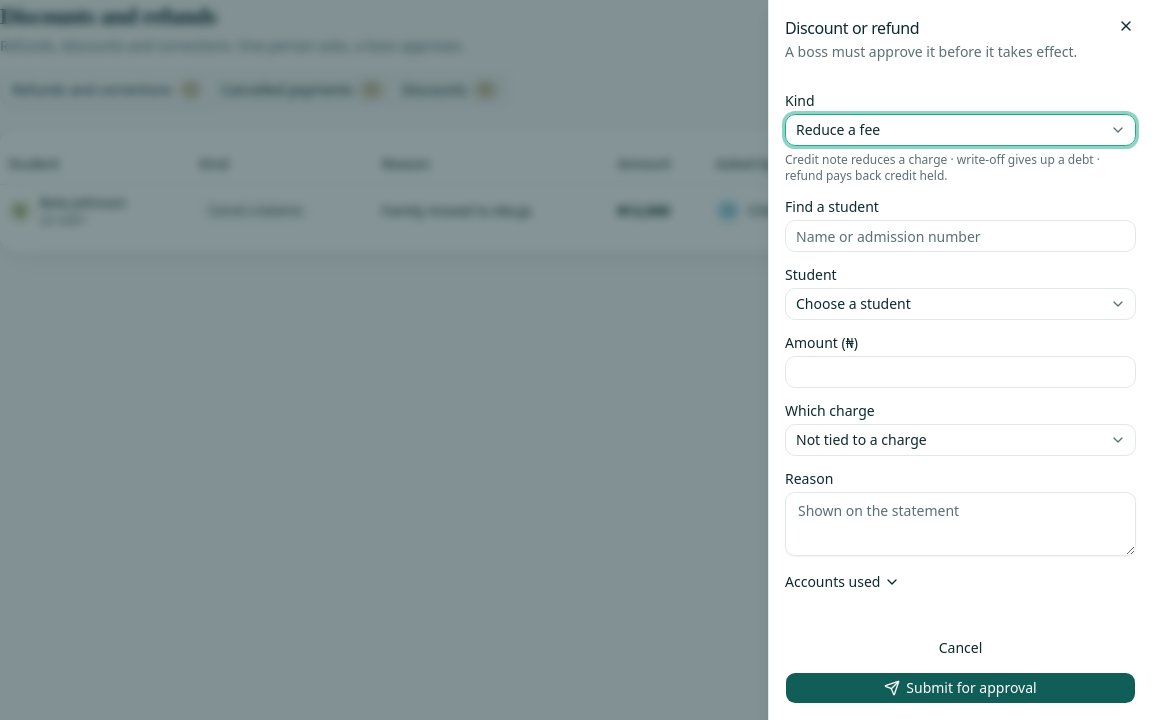
Test: the New request sheet › asks for a student and an amount, then a reason, before sending anything
The width and height of the screenshot is (1152, 720).
Expected: the dropdown labelled "Student" is shown, [785,288,1136,320]
Click the button "Submit for approval" at (960, 688), box [785,672,1136,704]
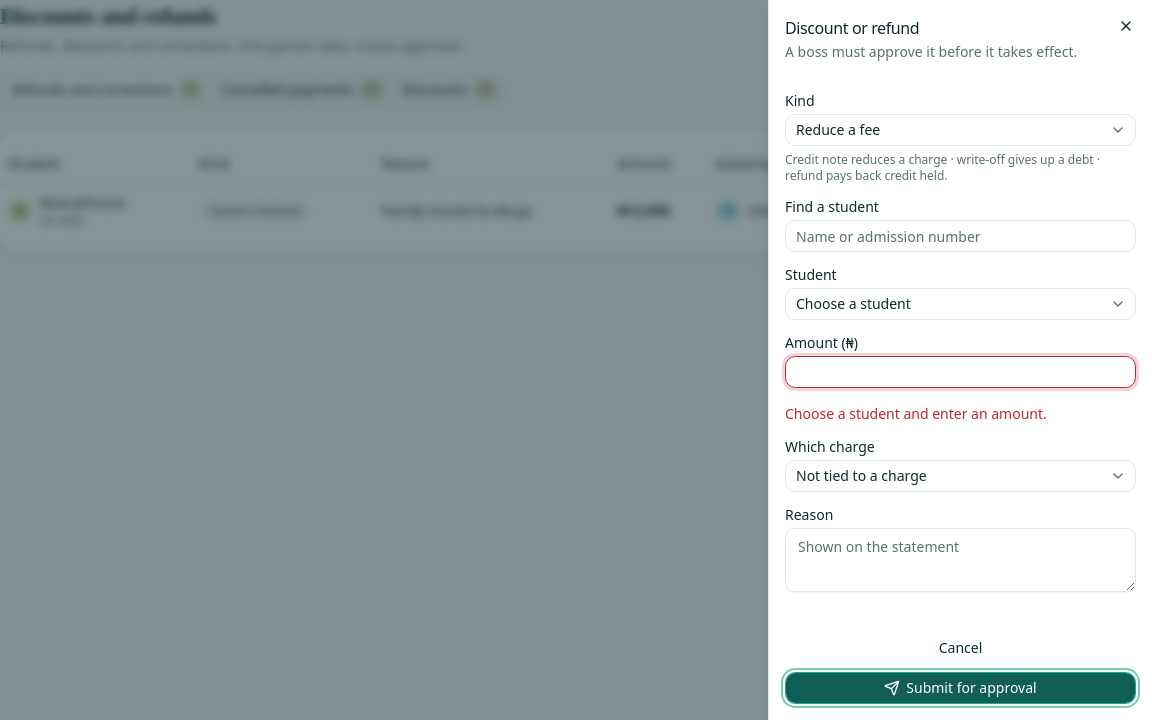
Expected: the text "Choose a student and enter an amount." is shown, [785,404,1047,423]
